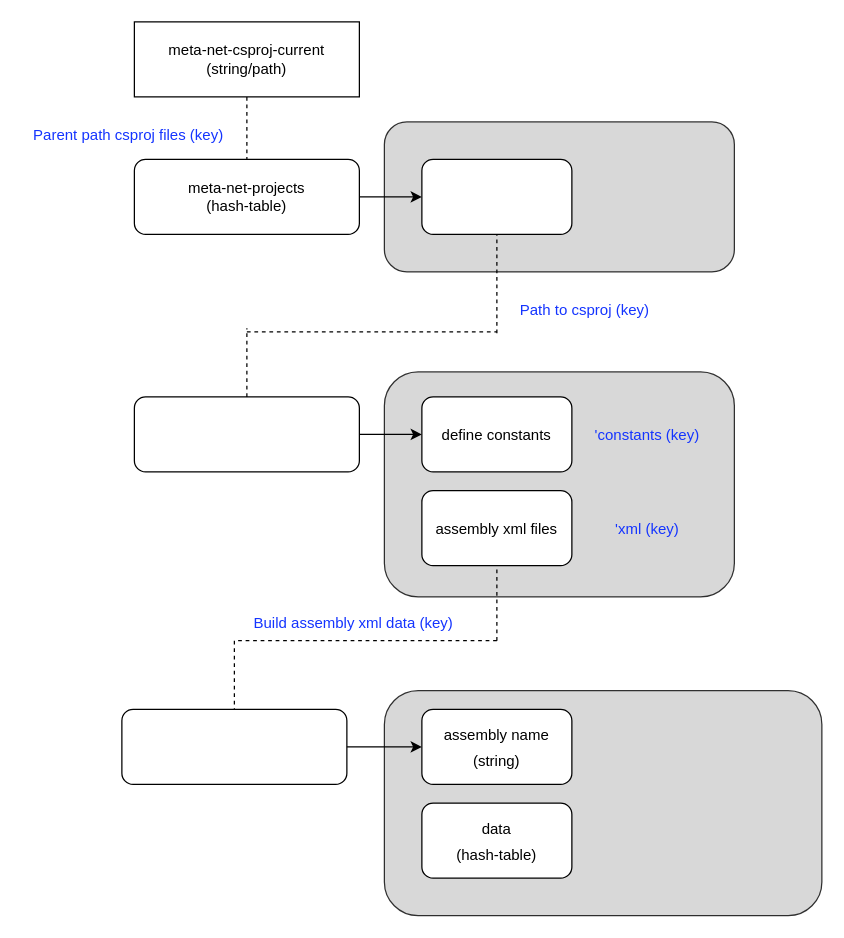
Image size: 844x938. Some labels were removed from this diagram. The shapes that lost their labels are listed below. From the top down, each one's box as (x1, y1, x2, y2) in pixels, then its label:
(421, 158, 572, 234): list of csproj files under
(133, 396, 359, 472): meta-net-csproj (hash-table)
(121, 708, 347, 784): meta-net-xml (hash-table)
